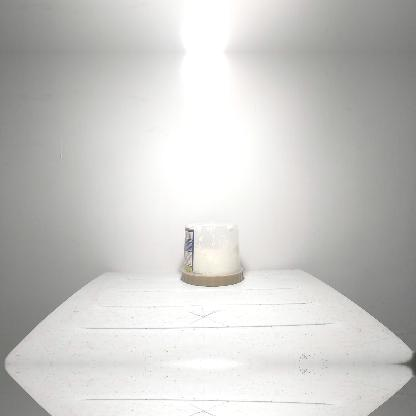Lady-s-Choice: (181, 220, 243, 286)
